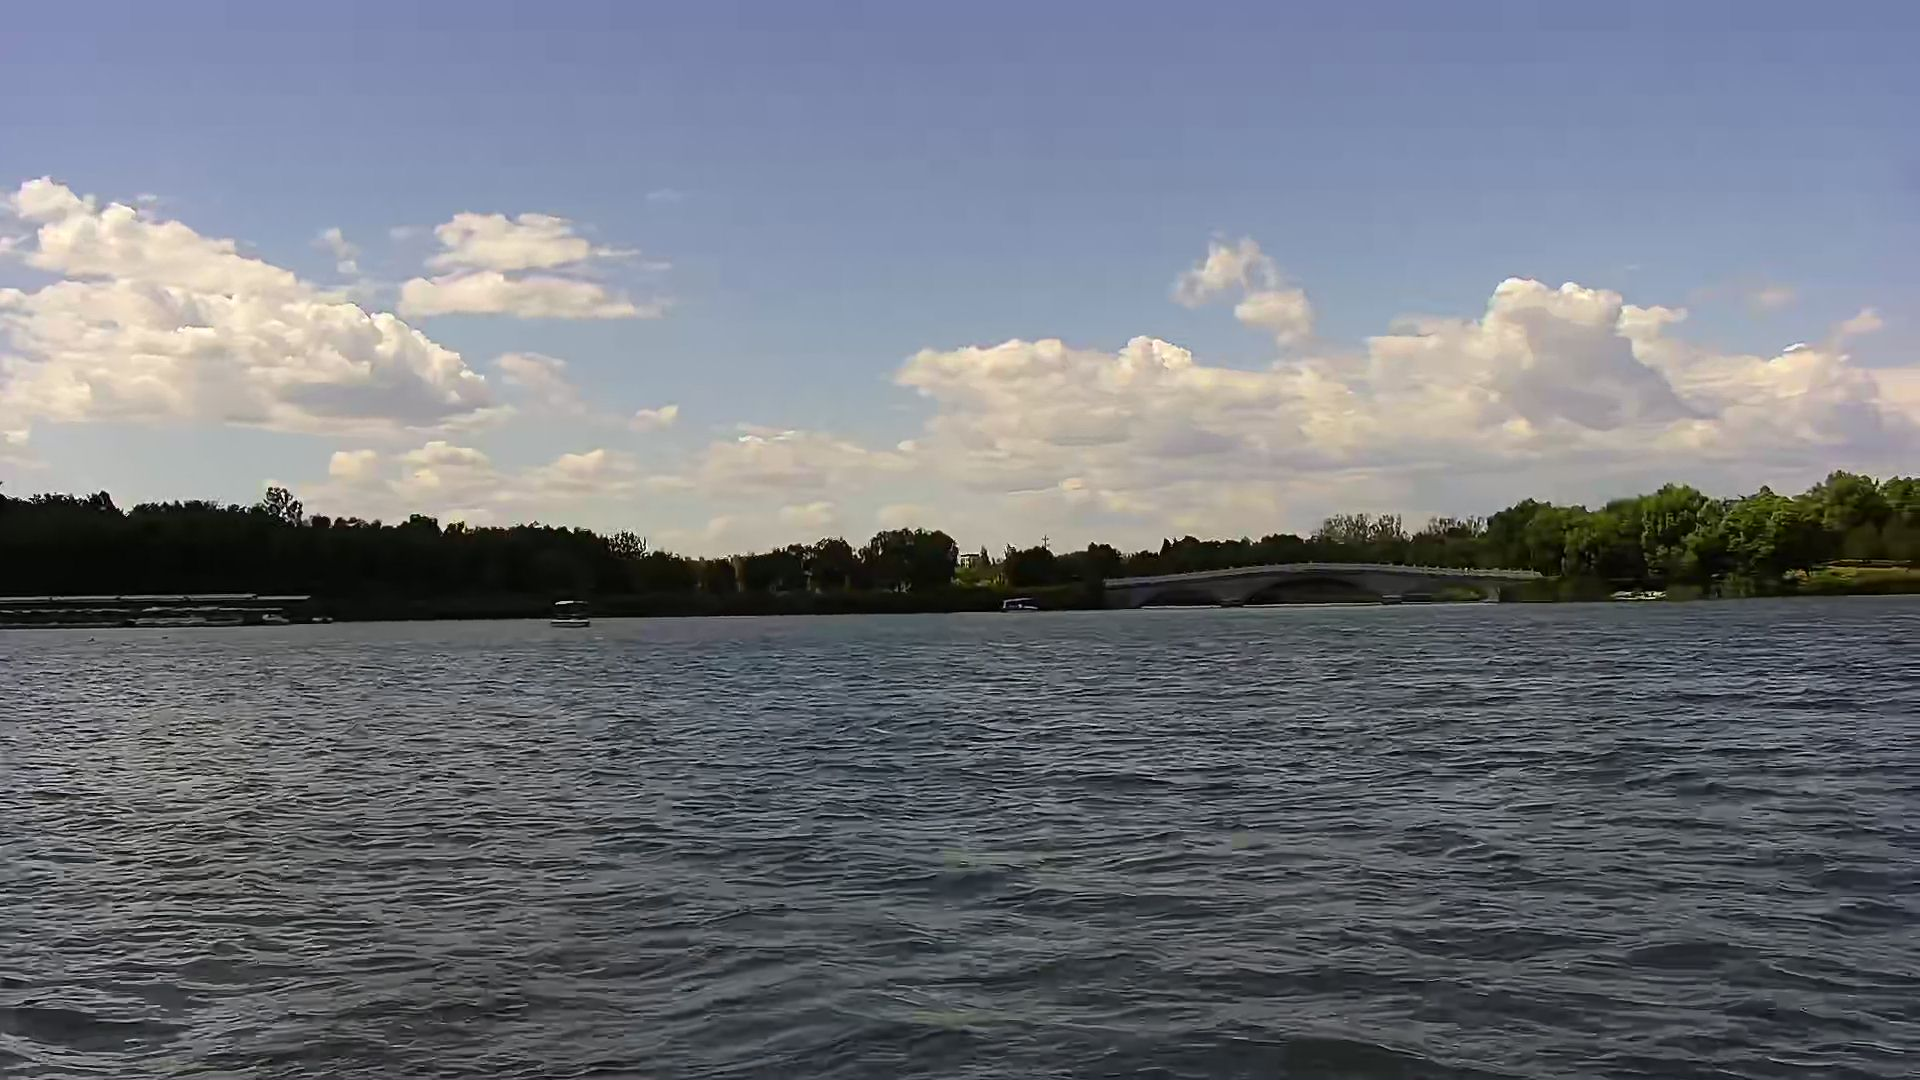boat: (543, 589, 601, 637)
bridge: (1109, 558, 1538, 611)
harbor: (1, 589, 323, 641)
